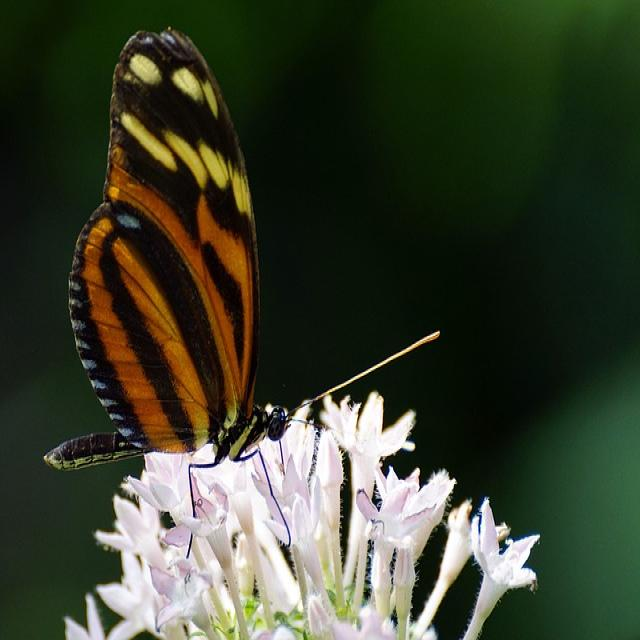butterfly: (45, 28, 289, 472)
